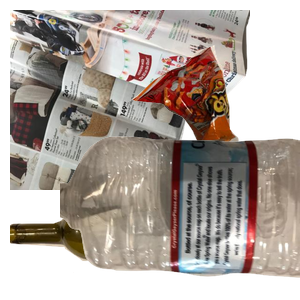glass: (10, 189, 250, 300)
paper: (10, 10, 250, 190)
plastic: (60, 134, 300, 300)
trash: (130, 43, 300, 190)
